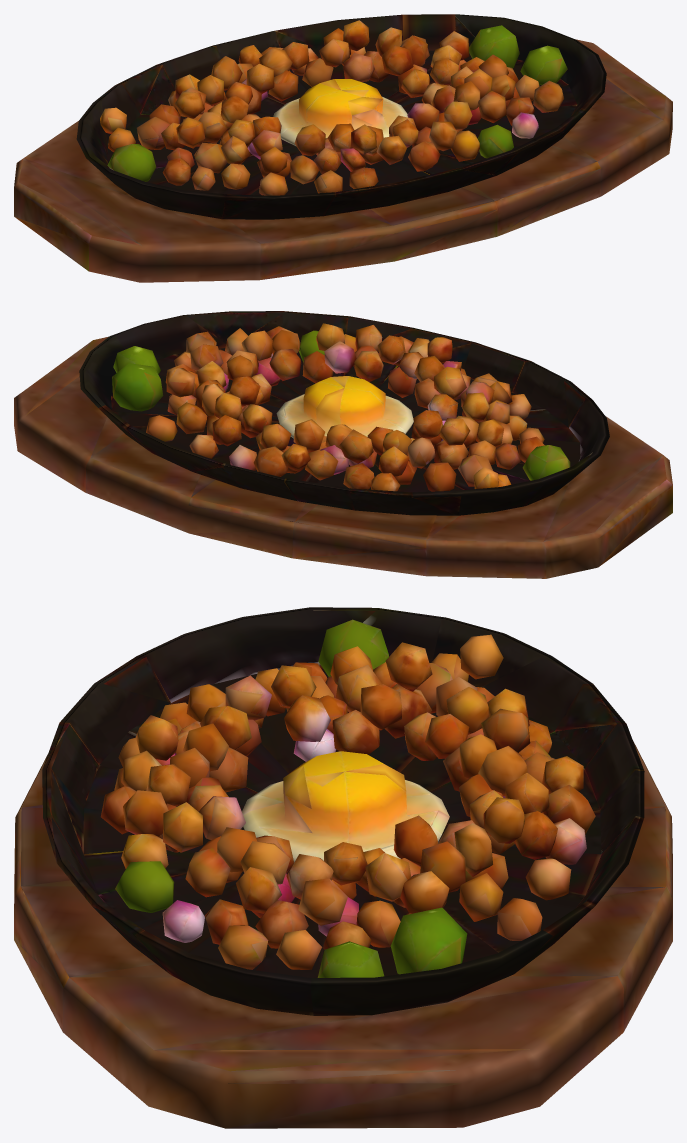
The model's file is sisig.glb.
3 renders of one model, top to bottom at view 1: azimuth 30°, elevation 25°; view 2: azimuth 150°, elevation 25°; view 3: azimuth 270°, elevation 25°, orthographic. The views are drawn at different scales.
Visible parts, largest first — view 1: geometry_0; view 2: geometry_0; view 3: geometry_0.
Boxes of the visible parts, left/top/right/bottom form: geometry_0: left=14, top=14, right=672, bottom=282; geometry_0: left=14, top=311, right=672, bottom=578; geometry_0: left=14, top=607, right=672, bottom=1128.
Bounding box in the file's own units: 1 × 0.1632 × 0.6197.
Materials: 1 (1 with a texture image).
